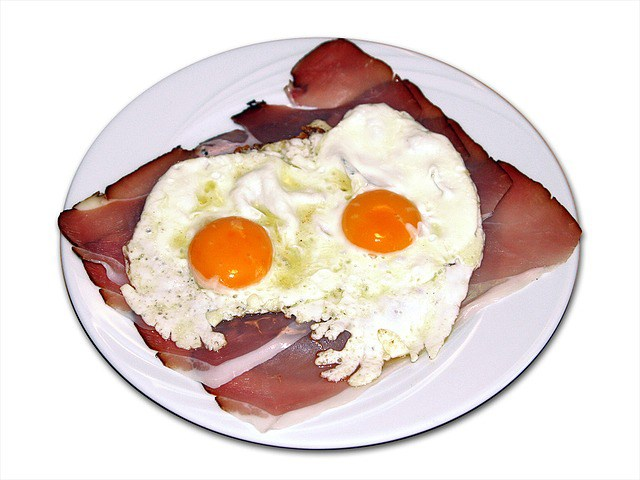fried egg: (160, 166, 479, 284)
